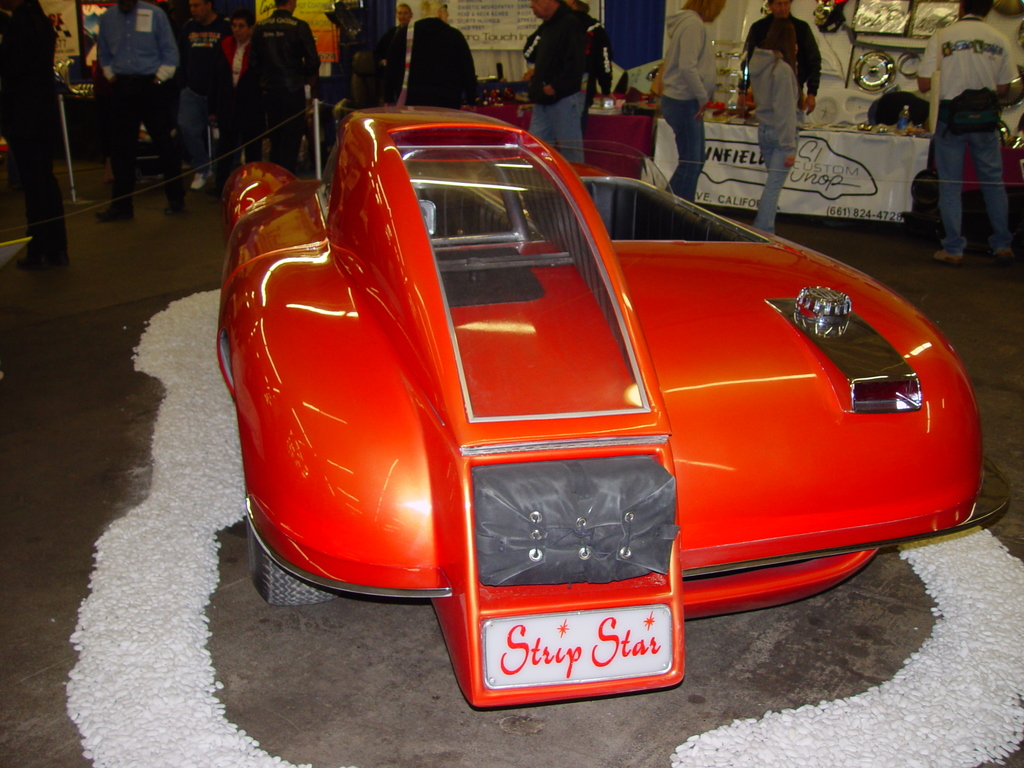Car: (222, 114, 978, 698)
